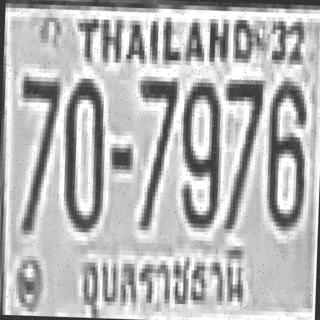N00: (60, 73, 104, 228)
N06: (263, 76, 304, 227)
N07: (16, 72, 58, 231), (133, 74, 177, 224), (220, 75, 262, 229), (222, 74, 262, 182)
N09: (177, 77, 221, 224)
P72: (75, 236, 252, 320)
